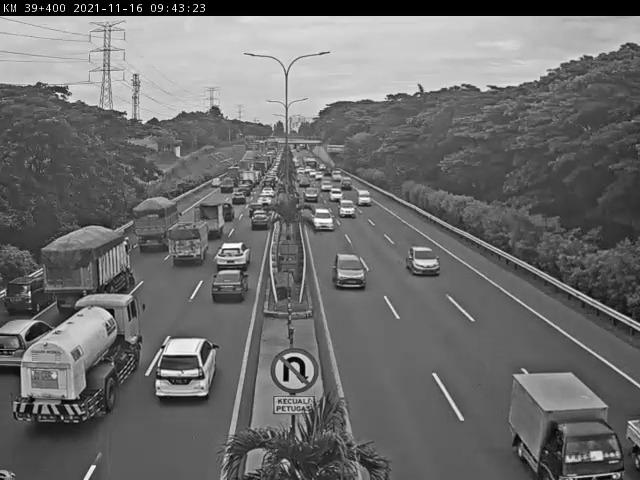car: (150, 326, 227, 414), (0, 313, 58, 378), (3, 268, 57, 323), (325, 249, 378, 295), (199, 264, 248, 309), (208, 238, 254, 280), (402, 239, 448, 278), (624, 388, 640, 480), (245, 207, 275, 237), (310, 207, 339, 235), (246, 200, 267, 220), (337, 197, 356, 219), (301, 186, 323, 204), (219, 198, 235, 222), (229, 188, 248, 207), (355, 189, 374, 208), (204, 175, 224, 191), (257, 195, 275, 211)
small truck: (507, 368, 616, 480)
truck-l-: (41, 225, 132, 311), (134, 197, 182, 254)
truck-m-: (8, 289, 152, 436), (167, 221, 209, 267), (193, 202, 226, 239)
